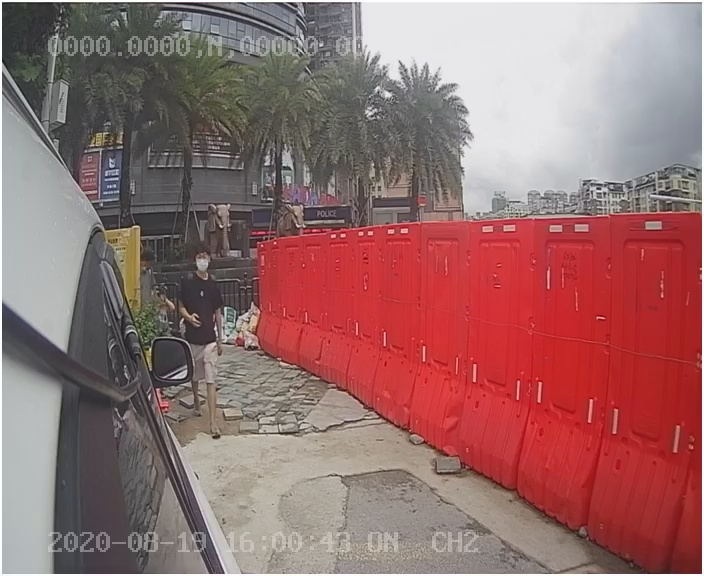person: (172, 249, 258, 437)
